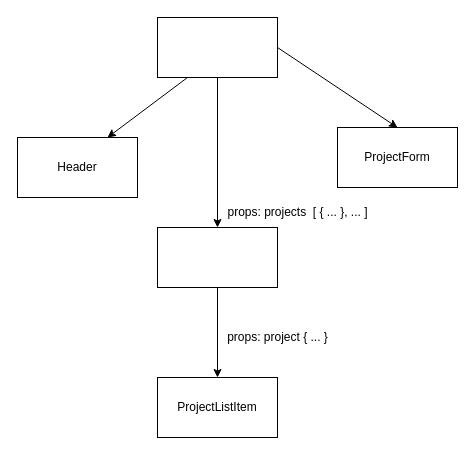
Some shapes in this 475 by 455 pixel diagram are drawn without their labels. The box of each missing label's shape, as (x1, y1, x2, y2) in pixels:
App state: darkMode: (156, 16, 278, 78)
ProjectList state: phaseState: (156, 226, 278, 288)
